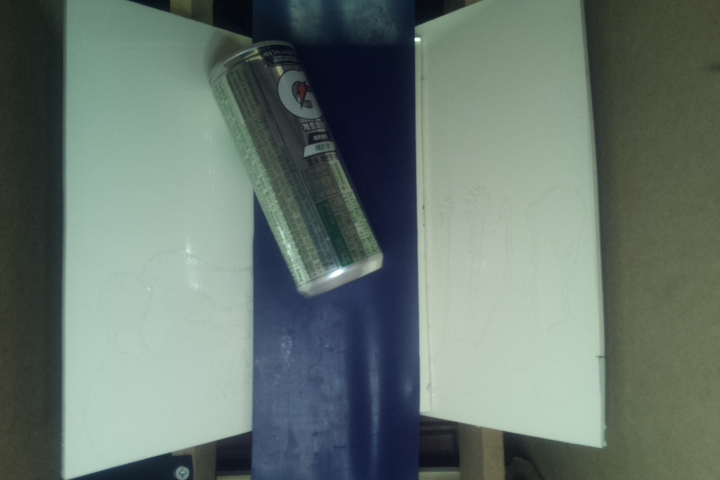can: (208, 39, 385, 299)
